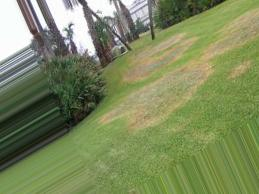patch: (138, 75, 182, 128), (206, 24, 252, 58), (137, 50, 166, 71)
